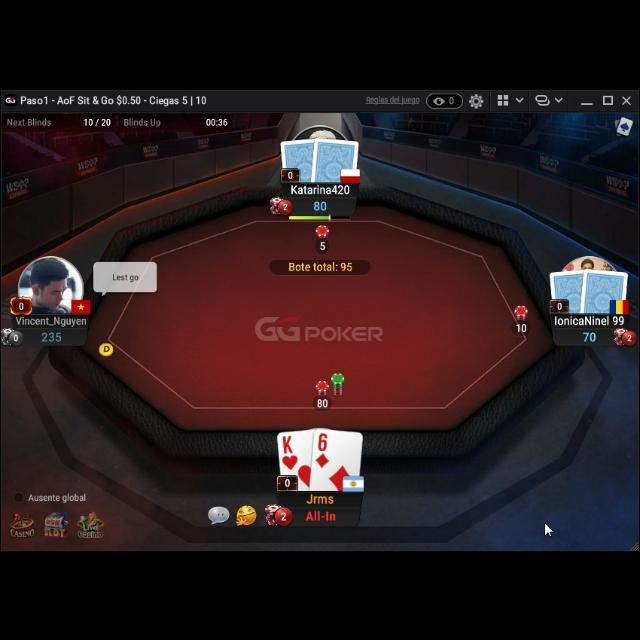6d: (314, 429, 332, 467)
Kh: (280, 431, 300, 469)
all_in_symbol: (304, 505, 338, 521)
bet_text: (315, 394, 329, 406), (317, 237, 328, 250), (515, 320, 529, 330)
card_back: (579, 264, 631, 314), (310, 131, 360, 183), (280, 134, 324, 180), (548, 264, 590, 312)
dealer: (98, 338, 116, 356)
pot_text: (286, 258, 354, 272)
stack_text: (41, 328, 64, 342), (312, 196, 330, 210), (582, 327, 598, 341)
